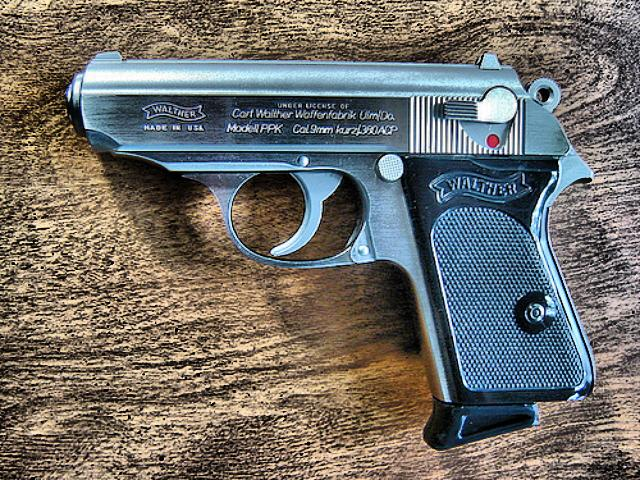pistol: (64, 48, 596, 450)
